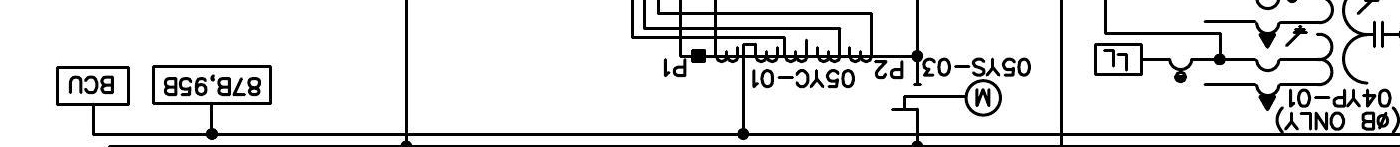115_1way_ds_w_motor: (890, 78, 1003, 118)
BCU: (55, 65, 131, 107)
LL: (1093, 42, 1144, 77)
